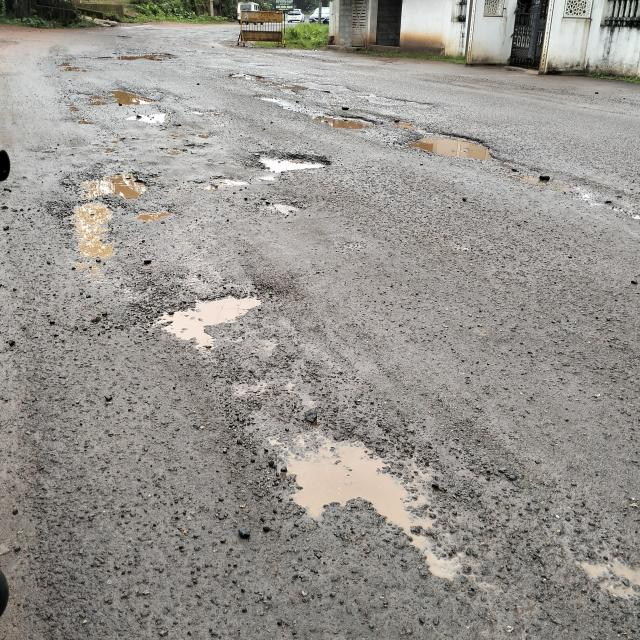pothole: (244, 411, 479, 601), (386, 93, 562, 191), (54, 163, 183, 284), (56, 81, 230, 162), (240, 62, 390, 144), (143, 286, 286, 361), (575, 544, 640, 626), (49, 45, 181, 76), (250, 145, 335, 188), (571, 178, 640, 230), (185, 170, 252, 196), (260, 196, 304, 221)
